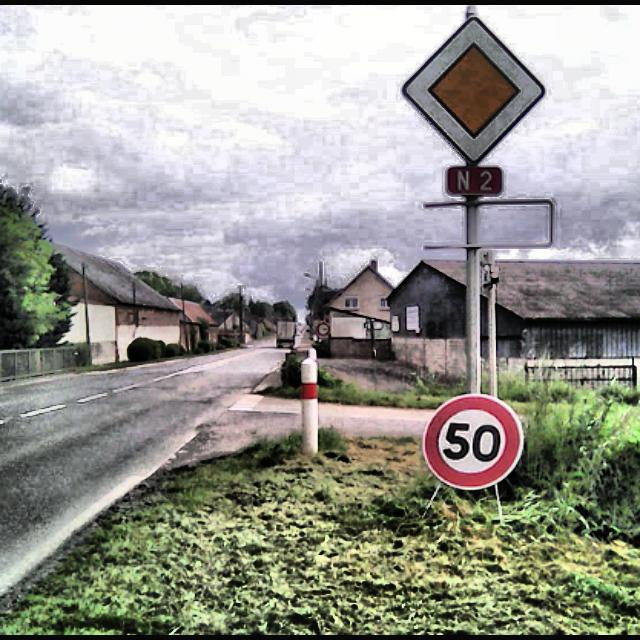speed_50: (424, 392, 524, 492)
